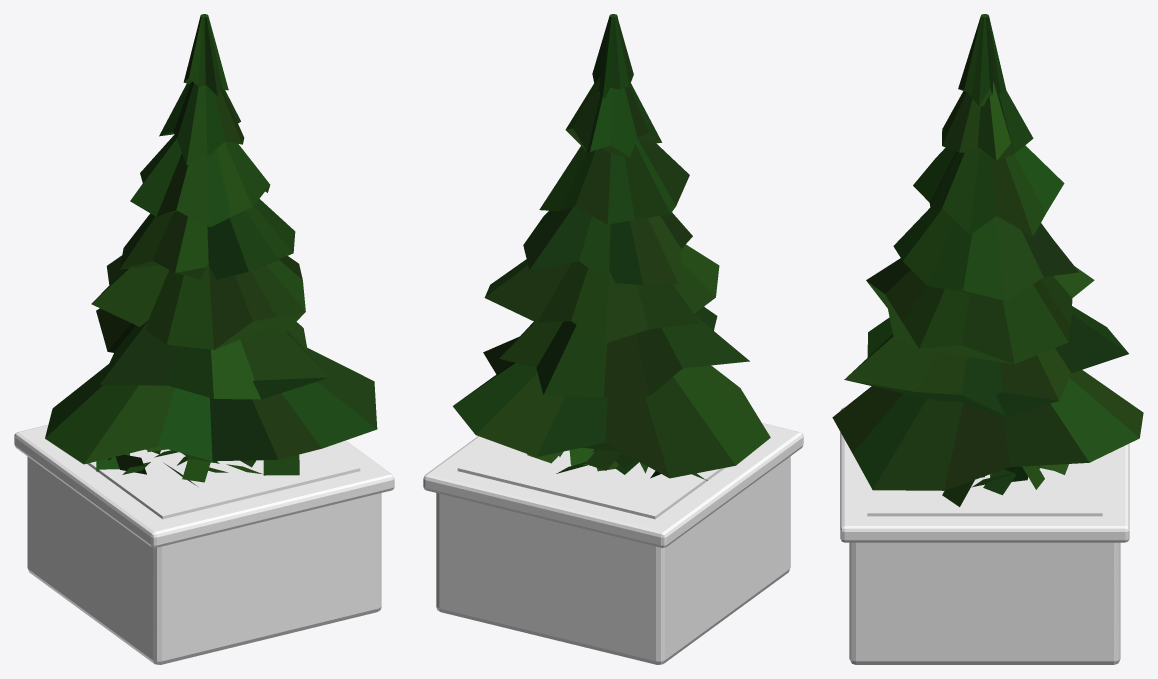
The model's file is SM_Planter.fbx.
The picture shows the model from 3 angles, left to right: view 1: azimuth 30°, elevation 25°; view 2: azimuth 150°, elevation 25°; view 3: azimuth 270°, elevation 25°; orthographic projection. The views are drawn at different scales.
Visible parts, largest first — view 1: SM_Planter; view 2: SM_Planter; view 3: SM_Planter.
Part boxes in pixels (left/top/right/bottom): SM_Planter: left=14, top=14, right=394, bottom=664; SM_Planter: left=423, top=14, right=803, bottom=664; SM_Planter: left=832, top=14, right=1143, bottom=664.
Size of the model in its own units: 153 by 290 by 138.
